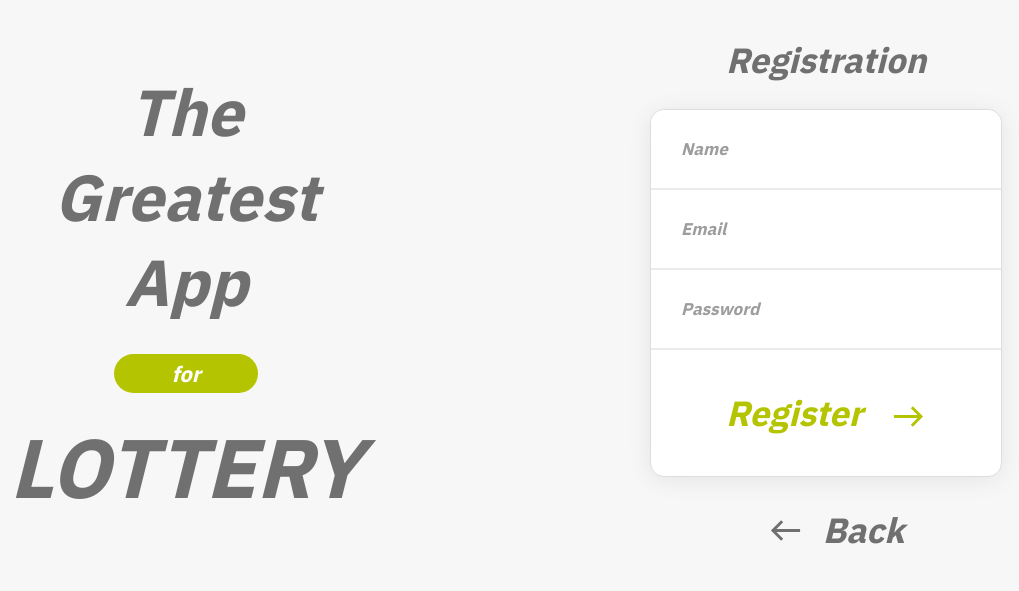
Scenario: Sign up user › When user types name less than 3 words, invalid email and password less than 6 characters › Should not be able to sign up an user and shows errors
In the field named "name": {"x": 826, "y": 150} [651,110,1001,190], type "T"
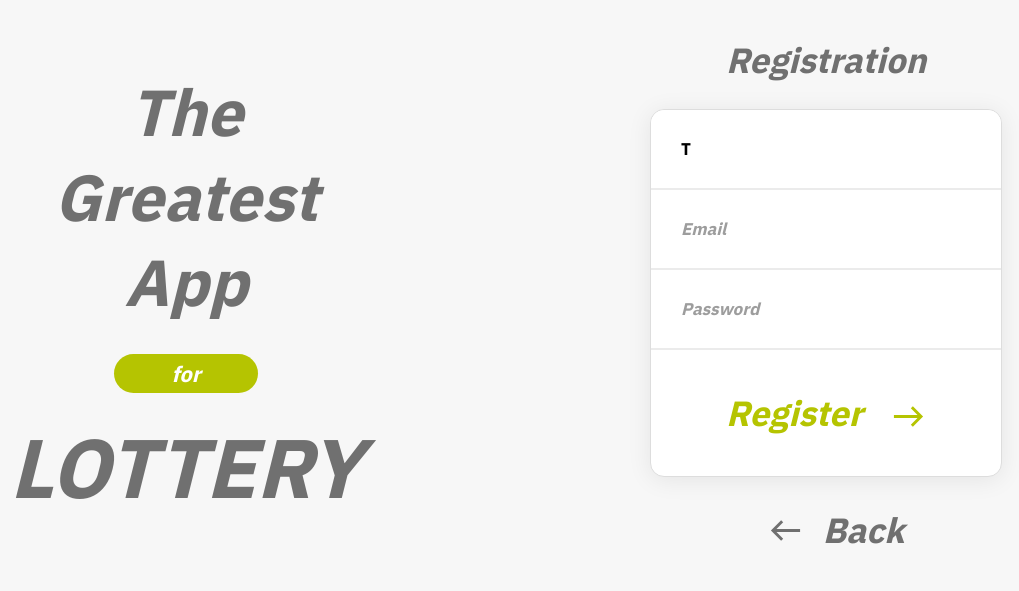
In the field named "email": {"x": 826, "y": 230} [651,190,1001,270], type "test@email"
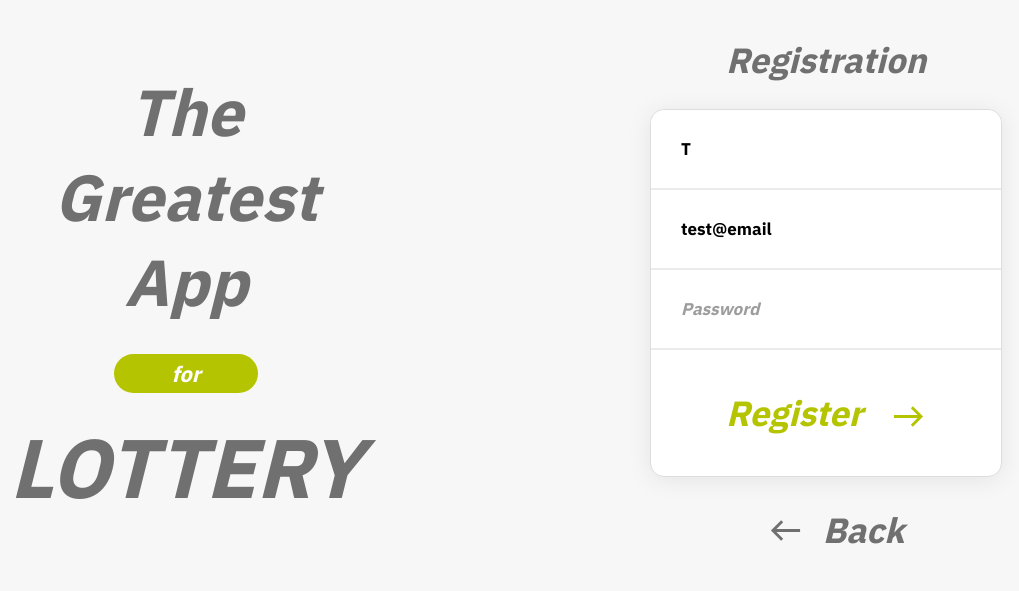
In the password field named "password": {"x": 826, "y": 310} [651,270,1001,350], type "123"
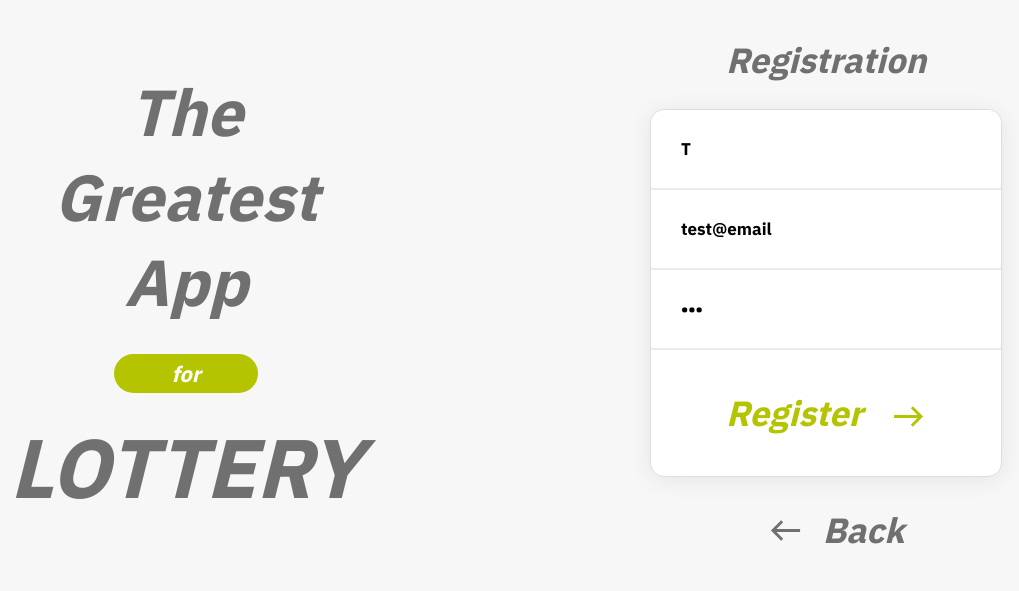
Click the button "Register": {"x": 826, "y": 413} [726,390,926,436]
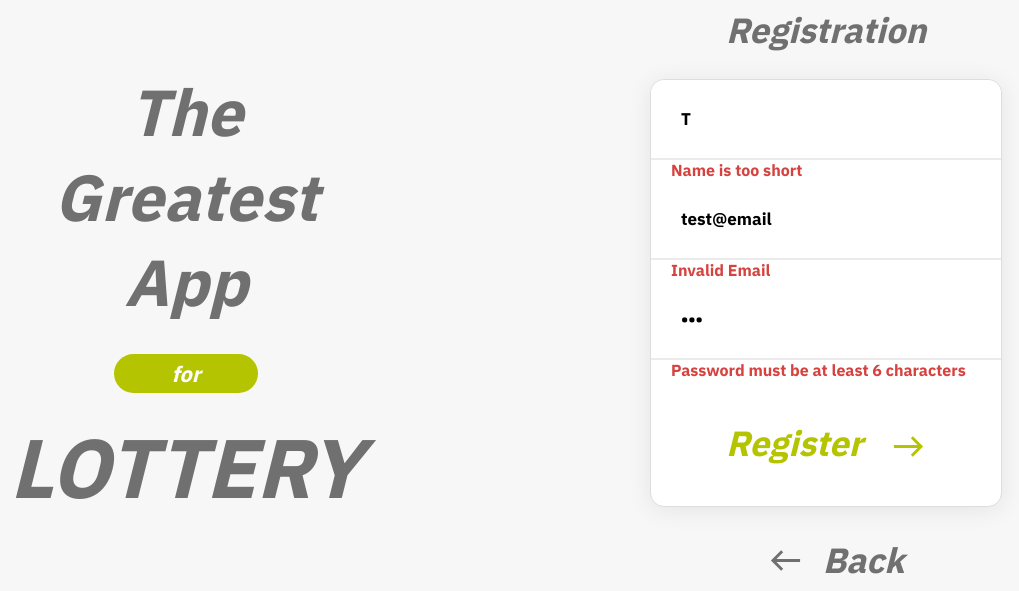
Result: the text "Name is too short" is shown at [671,160,802,180]
Result: the text "Invalid Email" is shown at [671,260,770,280]
Result: the text "Password must be at least 6 characters" is shown at [671,360,1001,380]
